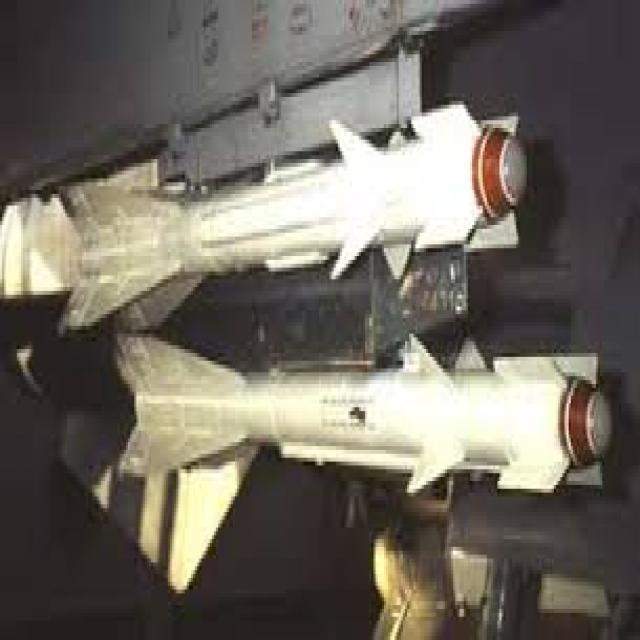missile: (108, 333, 606, 583), (48, 105, 526, 330)
